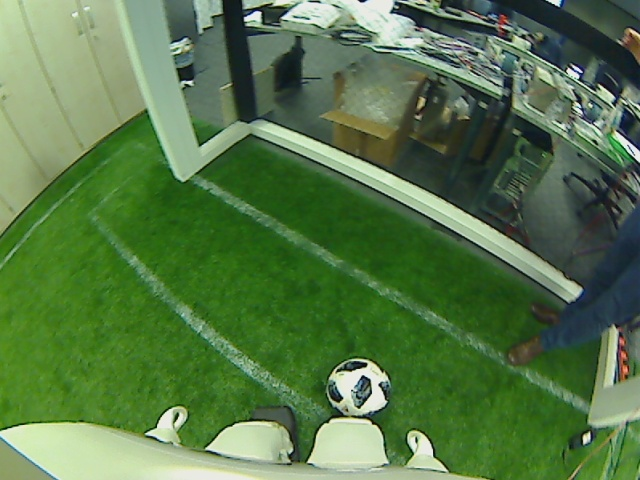ball: (323, 356, 394, 420)
